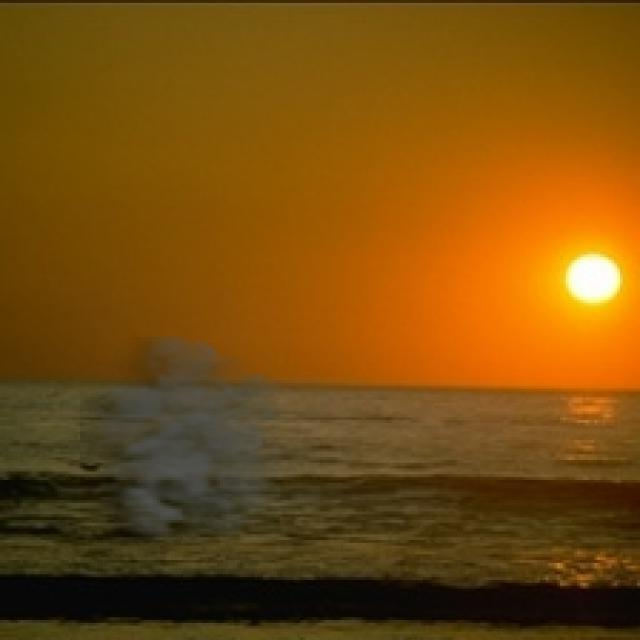Smoke: (80, 337, 306, 557)
